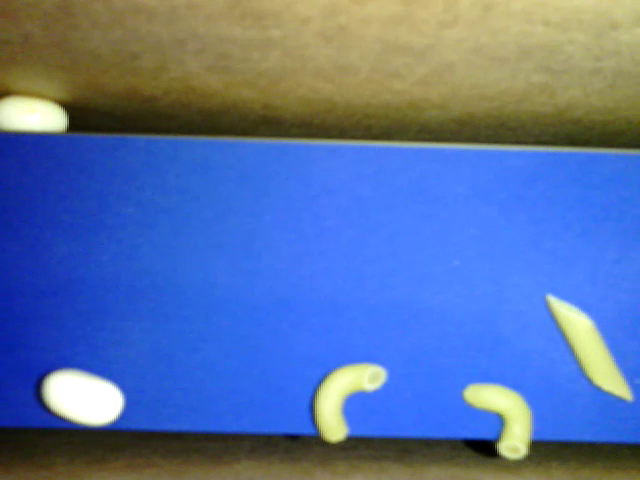elbow: (312, 362, 388, 443), (462, 382, 535, 459)
penne: (545, 294, 634, 401)
